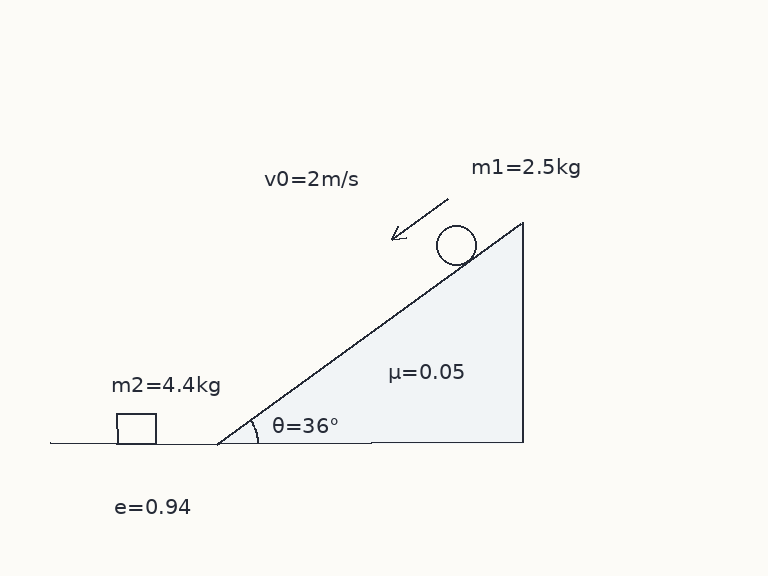ball: (434, 223, 478, 267)
block: (114, 412, 158, 445)
ramp: (216, 220, 524, 445)
